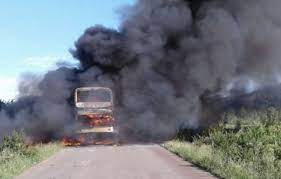smoke: (68, 1, 281, 122)
